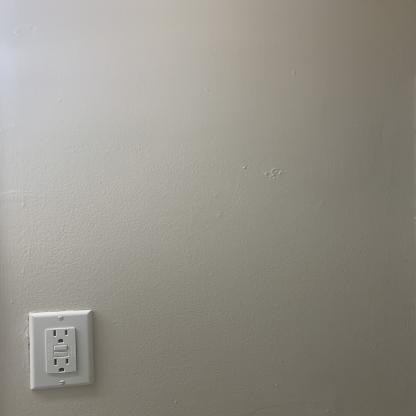OUTLET: (28, 311, 96, 388)
